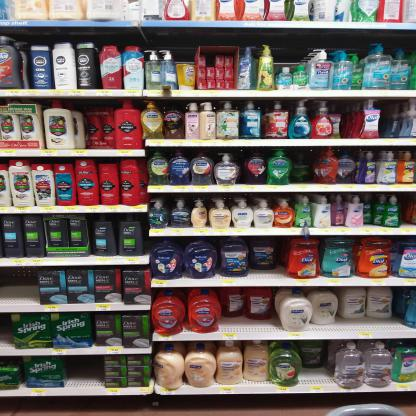Void: (226, 318, 275, 336), (70, 355, 100, 384), (5, 272, 37, 298), (292, 152, 314, 188), (342, 319, 401, 332), (376, 102, 396, 138), (174, 30, 190, 62), (307, 364, 334, 382), (254, 270, 280, 279)
